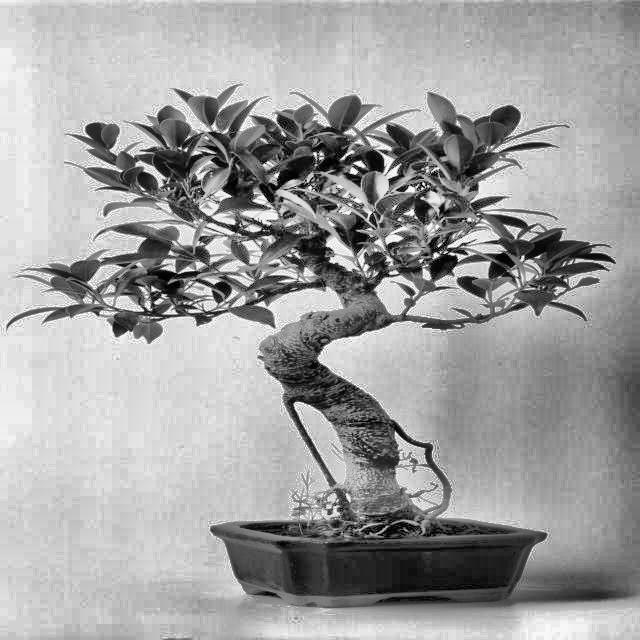plants: (46, 101, 586, 578)
